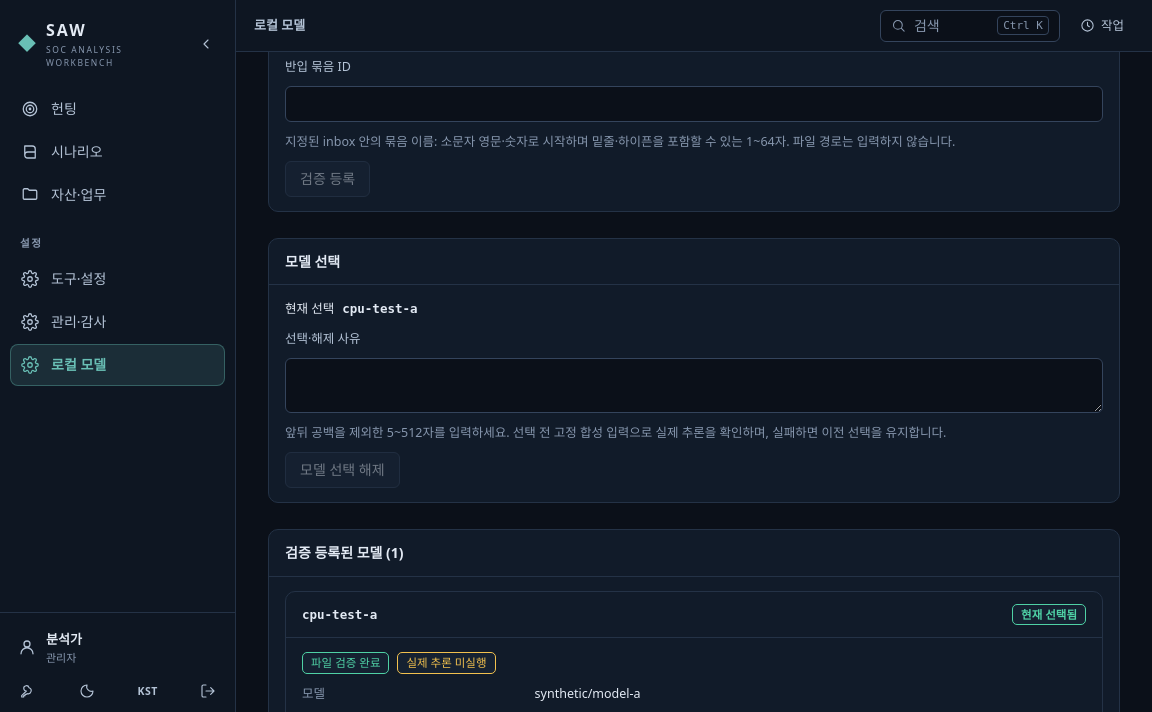
Test: deactivates the selected model with a reason and refreshes the current selection
(page scrolled)
Check: the button "모델 선택 해제" is disabled, box left=285, top=452, right=400, bottom=488
Type "  합성 시험 종료  " into the text box labelled "선택·해제 사유" at (694, 386), box left=285, top=358, right=1103, bottom=413
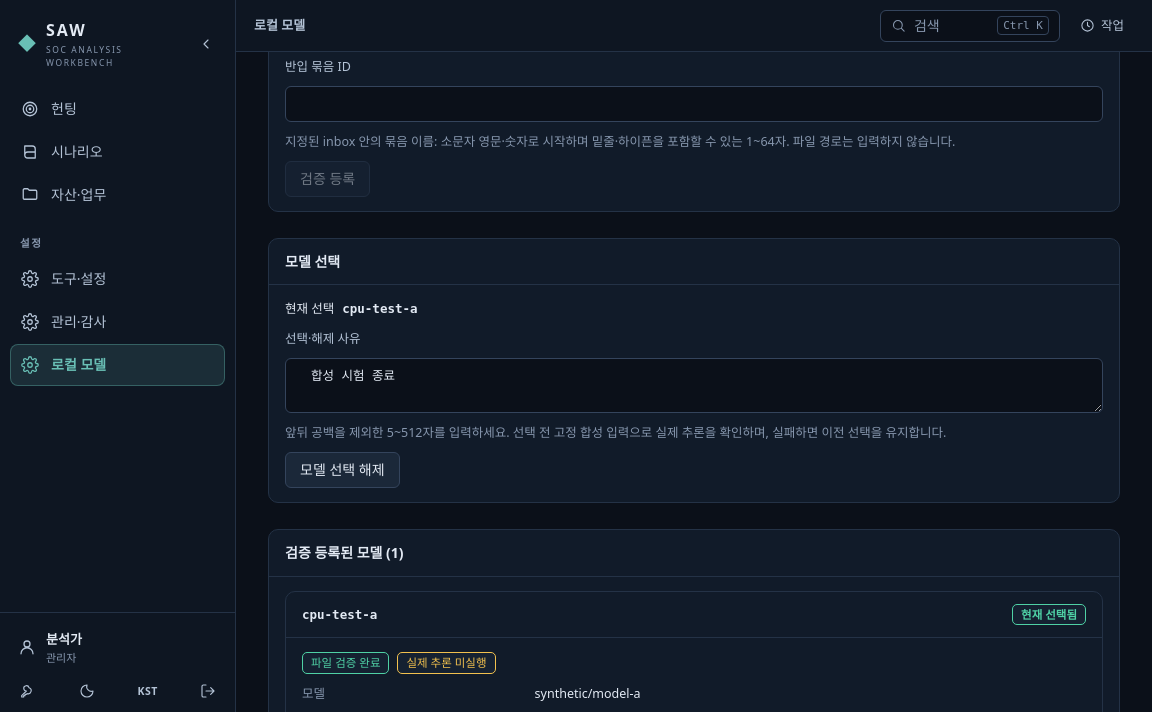
Click the button "모델 선택 해제" at (342, 470), box left=285, top=452, right=400, bottom=488
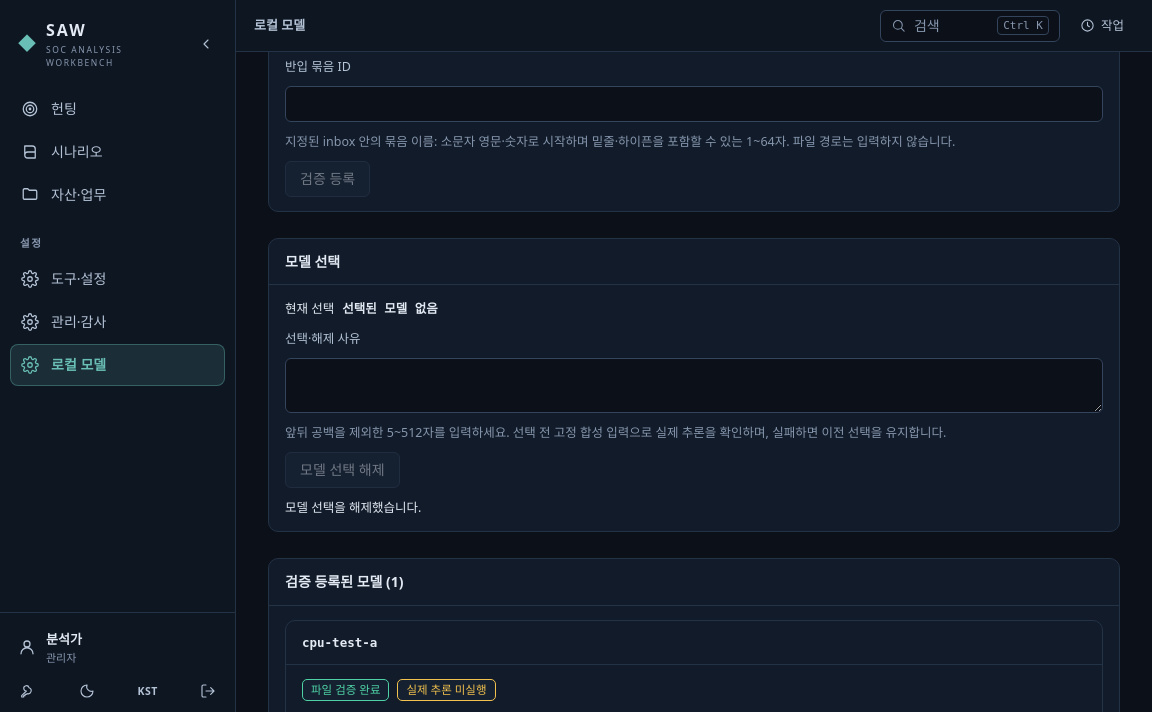
Check: the text "선택된 모델 없음" is shown, box left=342, top=299, right=438, bottom=319
